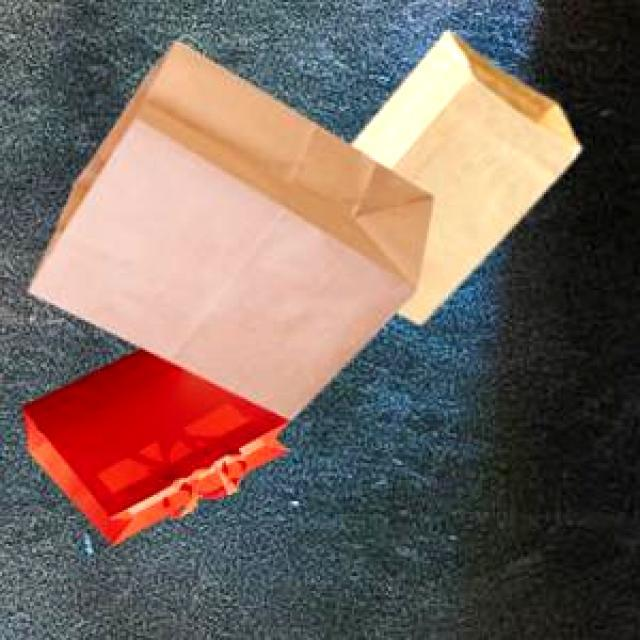Paper_Bag: (27, 37, 430, 415), (348, 28, 578, 322), (20, 344, 285, 541)
